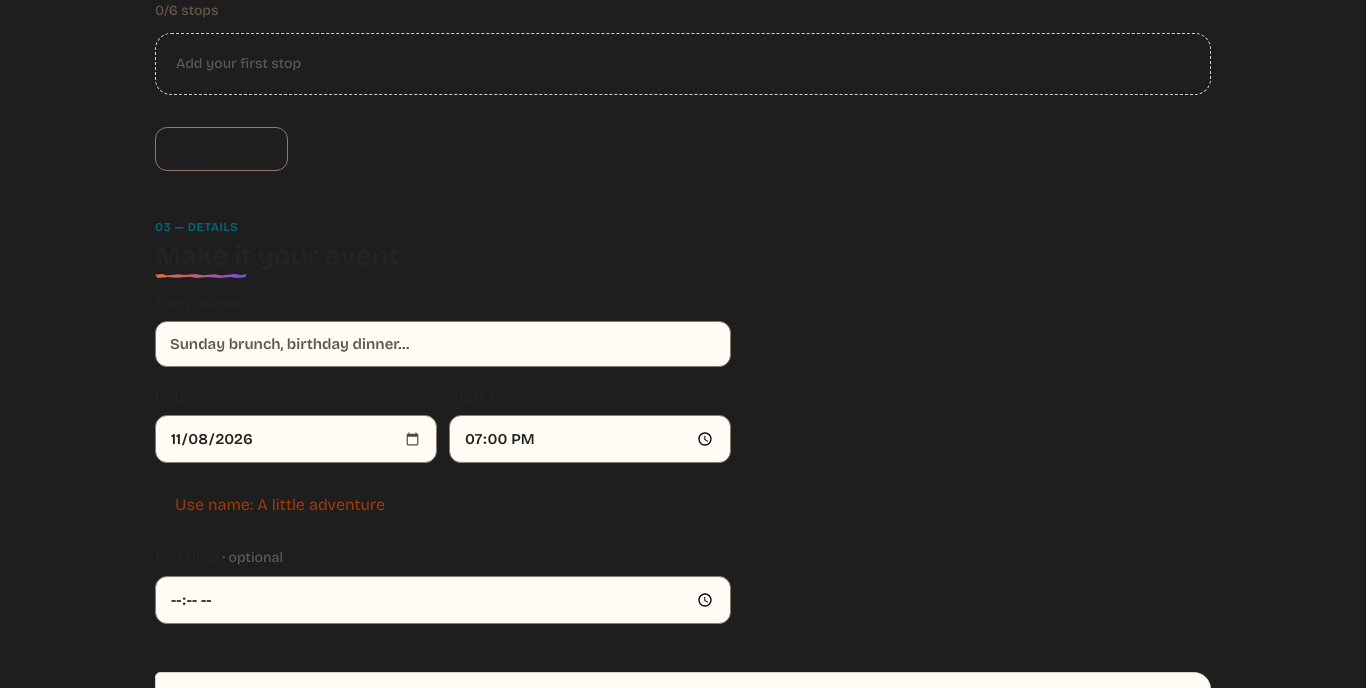
Test: unified planner interactions › handles granted geolocation only after the location button is tapped
(page scrolled)
In the field labelled "Event name": (443, 344) [155,321,731,367], type "QA night"
(page scrolled)
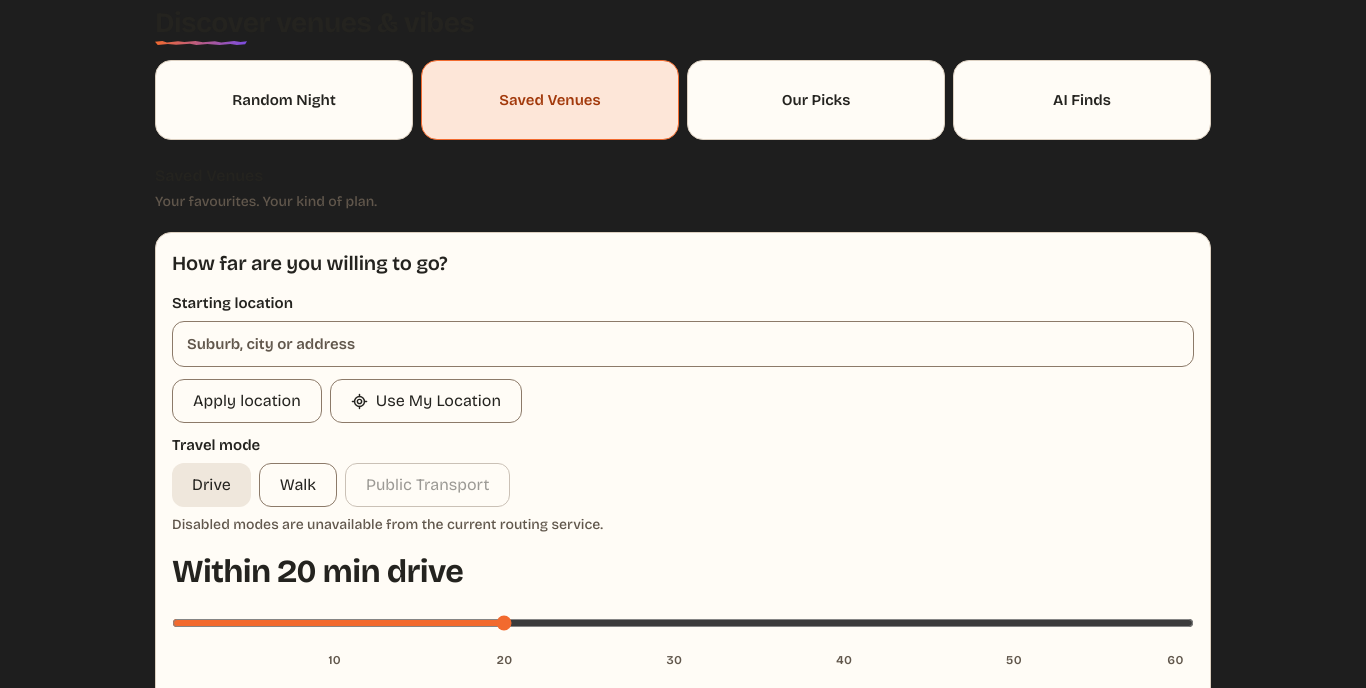
In the field labelled "Starting location": (683, 344) [172,321,1194,367], type "Sydney"
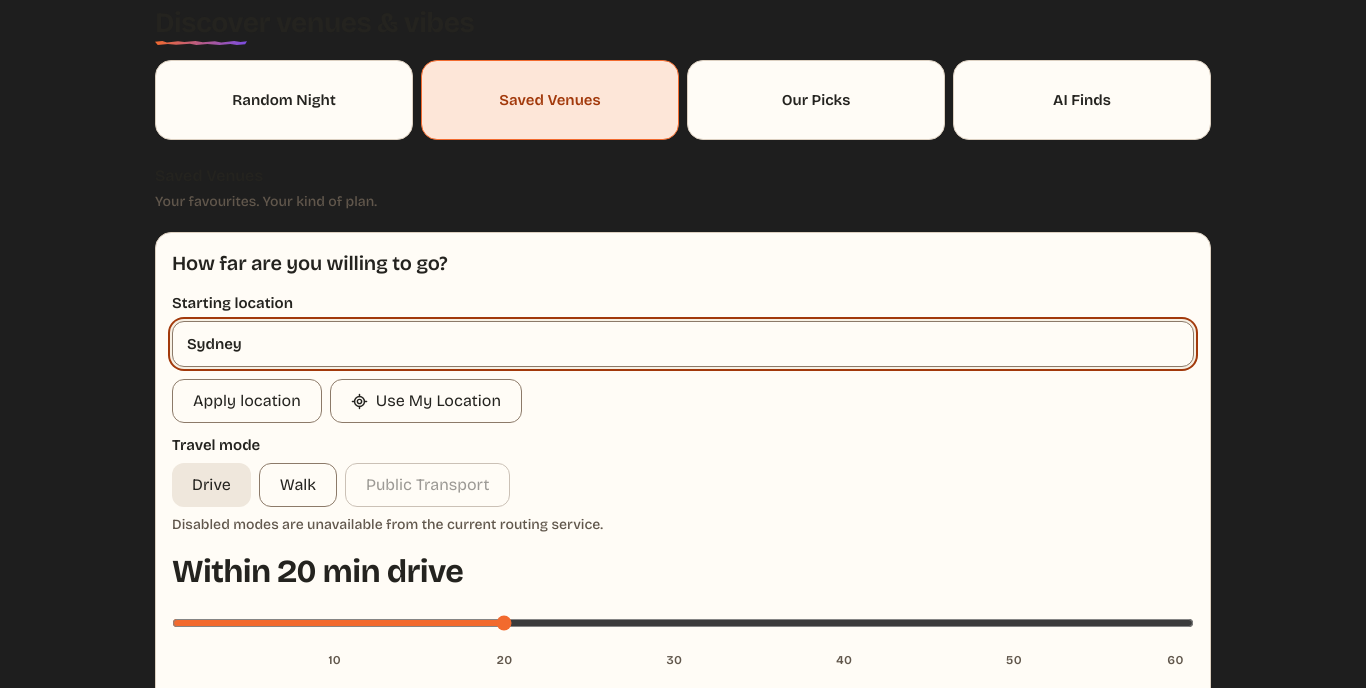
Click the button "Apply location": (247, 401) [172,379,322,423]
(page scrolled)
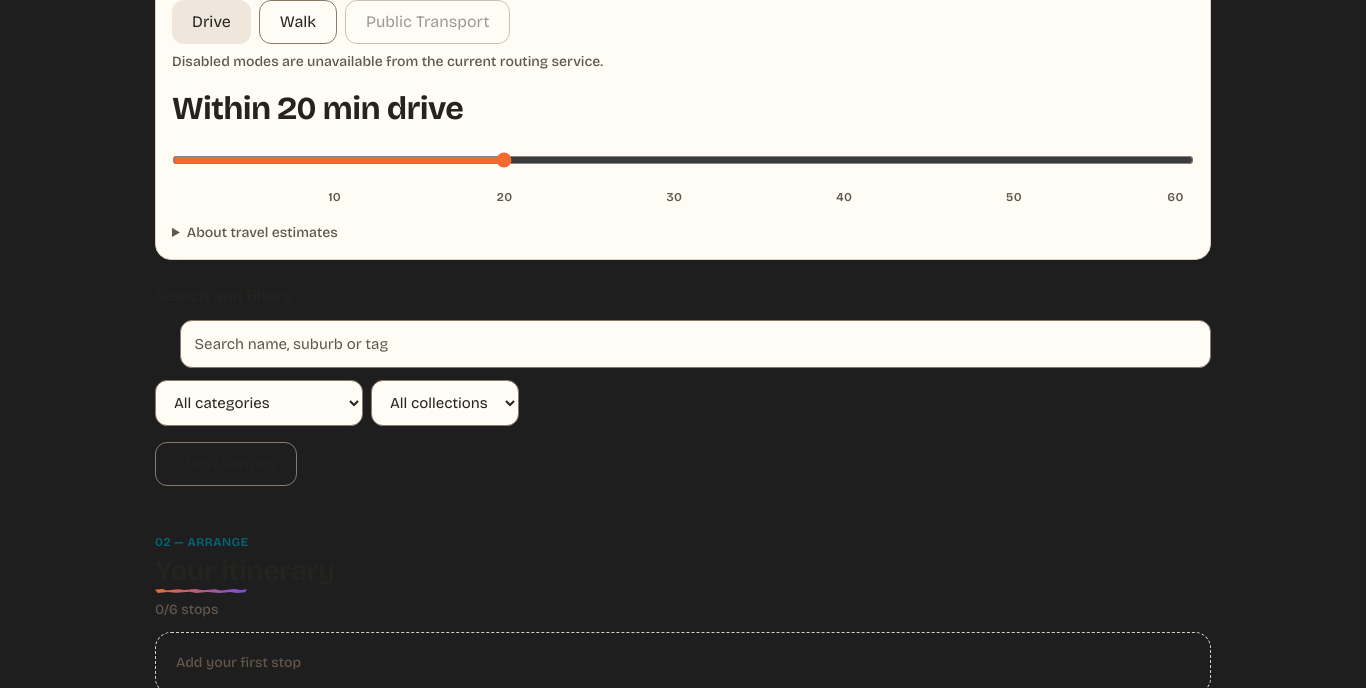
Click the field named "Search venues": (695, 344) [180,320,1211,368]
(page scrolled)
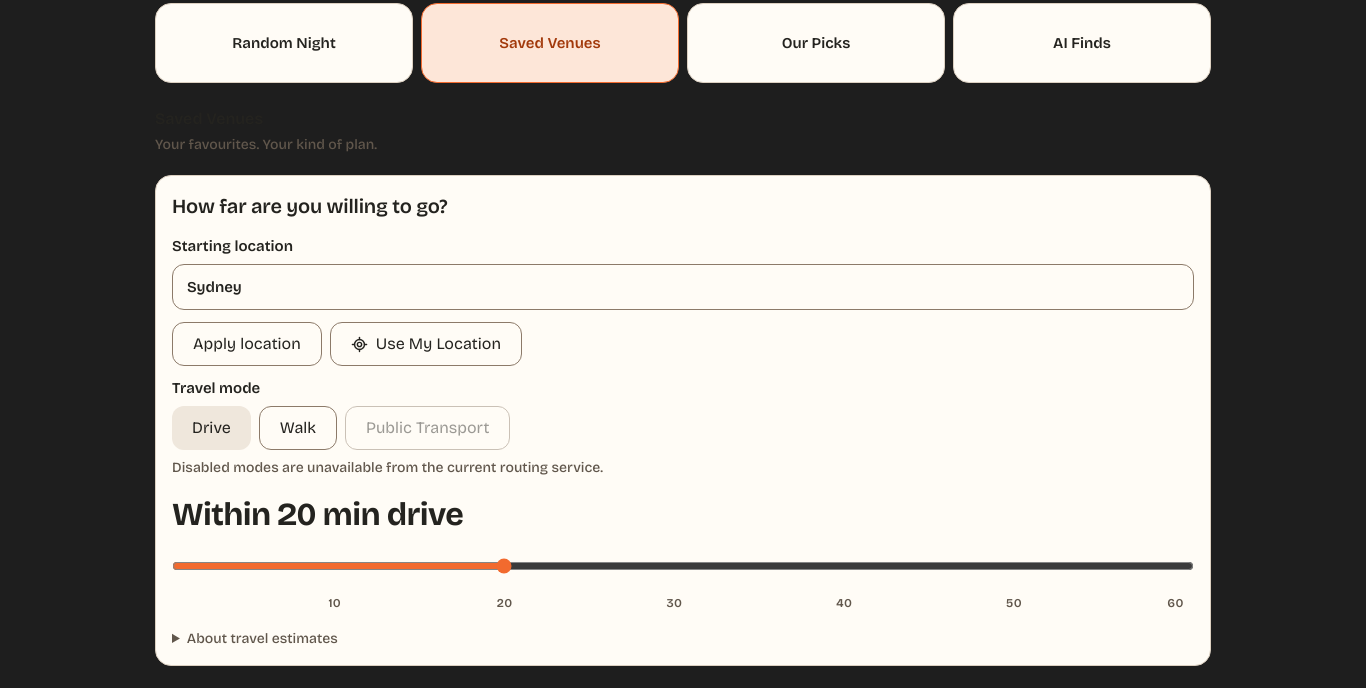
Click the button "Use My Location": (426, 344) [330,322,522,366]
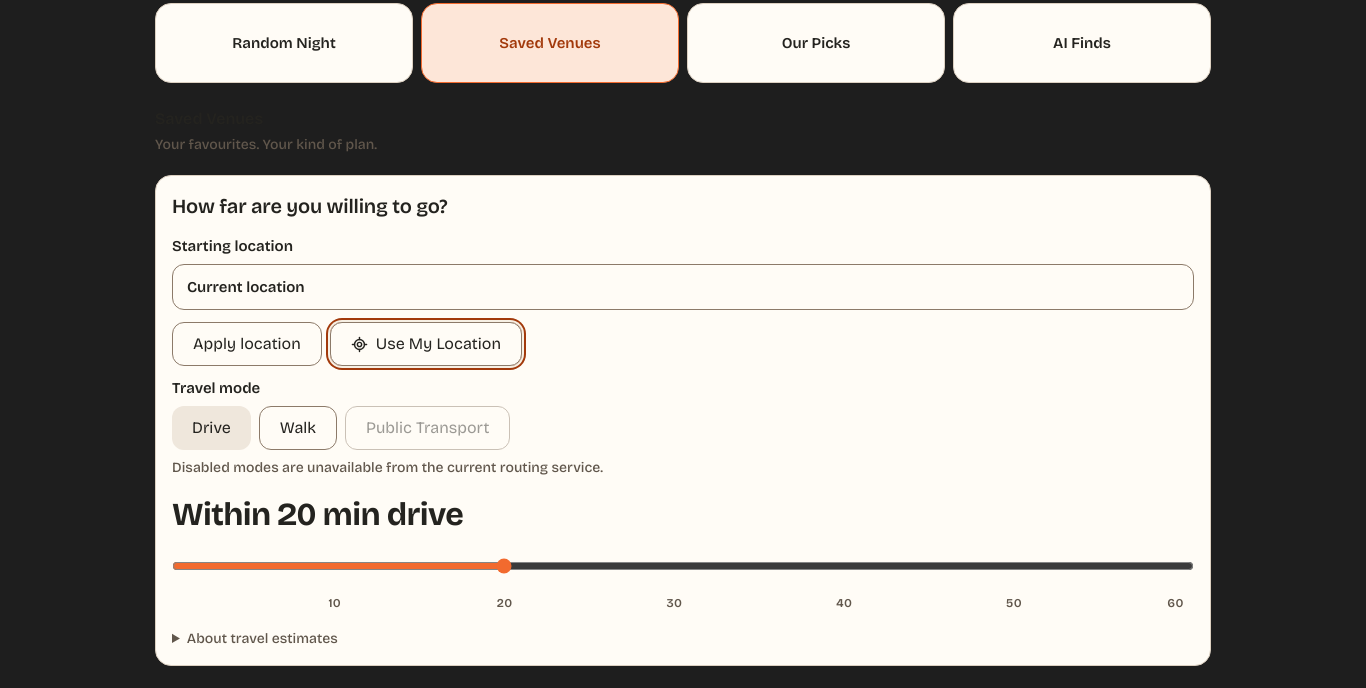
Expected: the field labelled "Starting location" holds "Current location", [172,264,1194,310]
